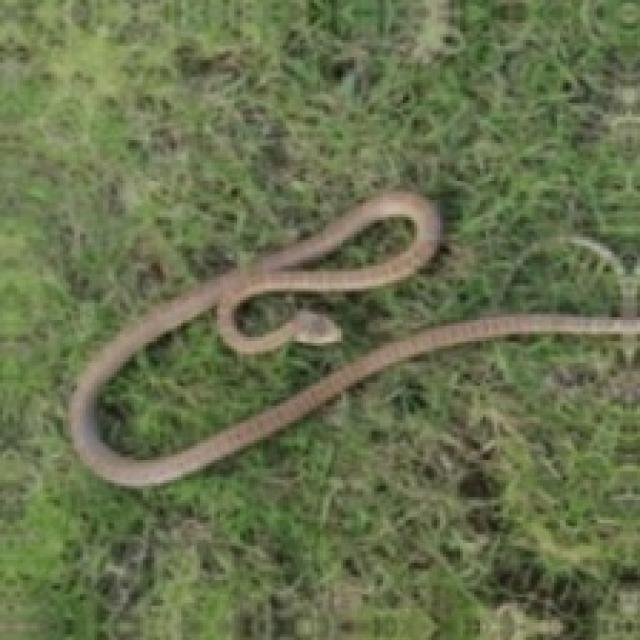paradise tree snake: (69, 191, 637, 486)
